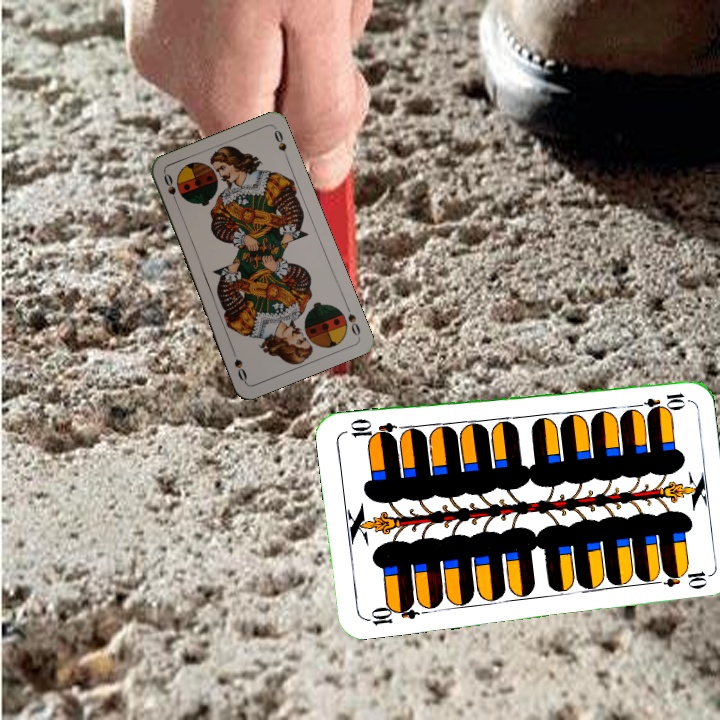E10: (361, 598, 420, 629), (629, 389, 688, 412)
SO: (160, 169, 181, 209), (342, 300, 363, 339)
